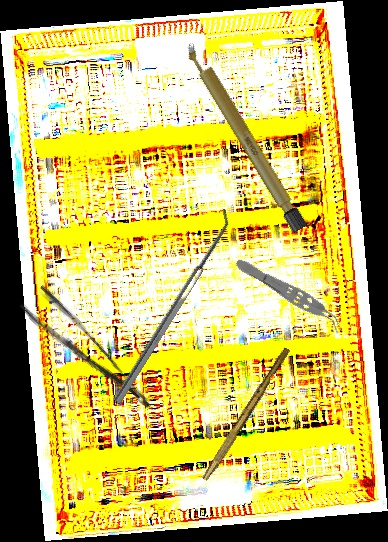Dressing Forceps: (18, 282, 155, 428)
Scalpel Handle: (182, 39, 308, 234), (201, 345, 292, 484)
Spatula Surgical: (106, 208, 237, 404)
Tissue Forceps: (231, 253, 348, 335)
